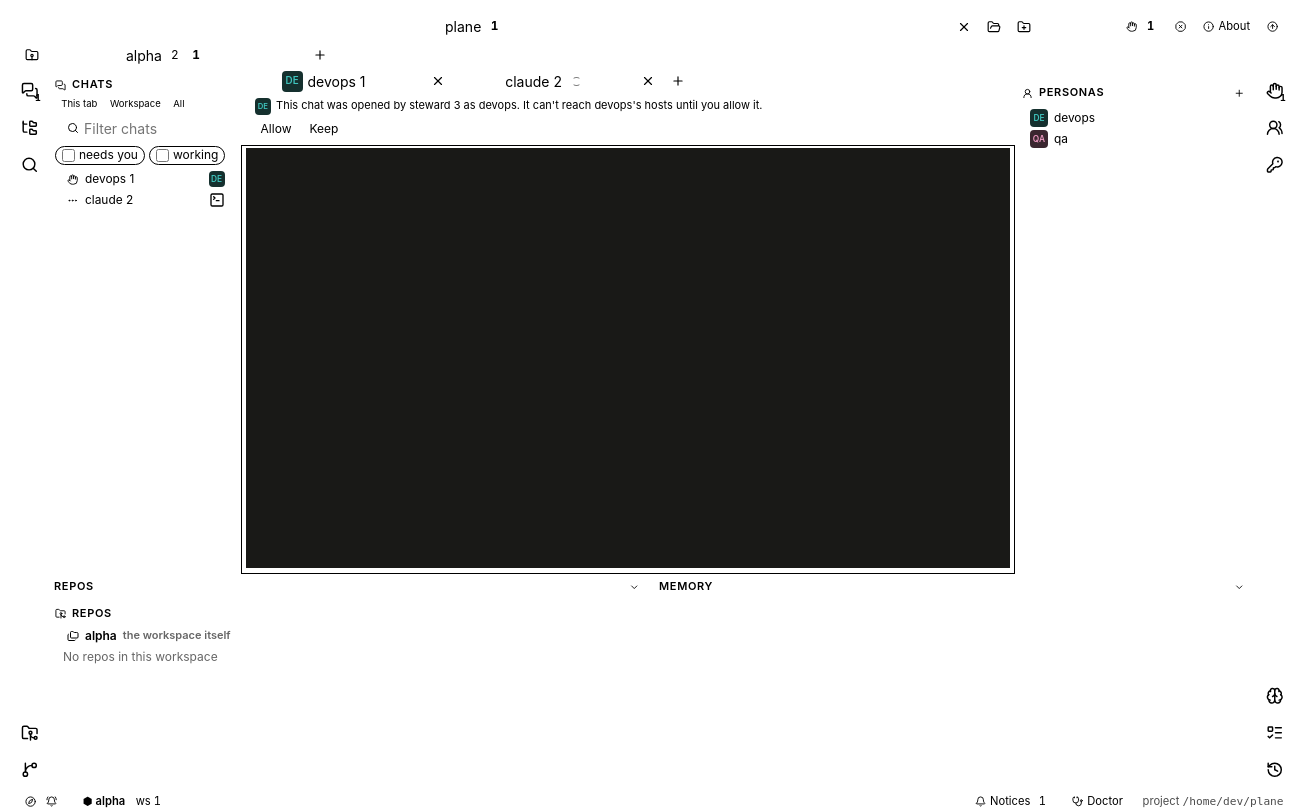
Scenario: the persona's view lets the person pick › says why an oversized image is not drawn, and draws the initials everywhere
This screenshot has width=1304, height=812.
Click the button "devops".
click(1136, 118)  # box [1022, 108, 1250, 129]
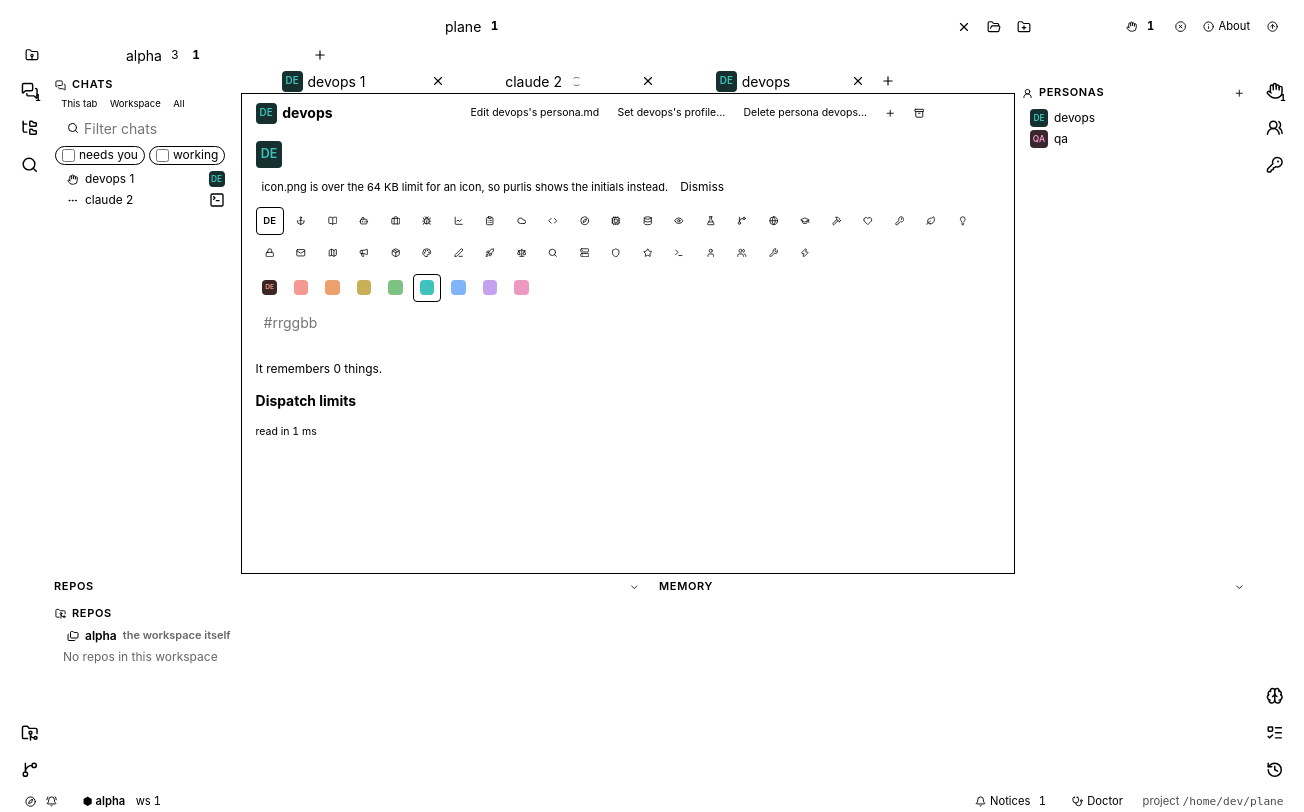
Result: the text "icon.png is over the 64 KB limit for an icon, so purlis shows the initials instead." is shown at [262, 180, 668, 194]
